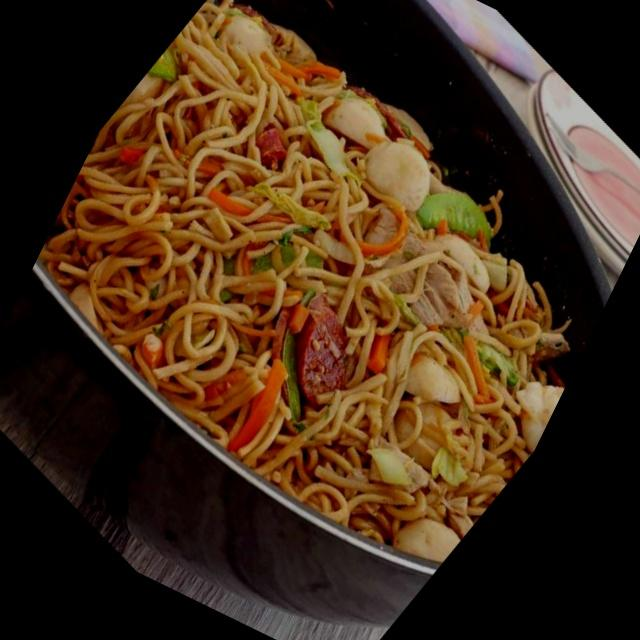pancit bihon: (46, 0, 558, 549)
